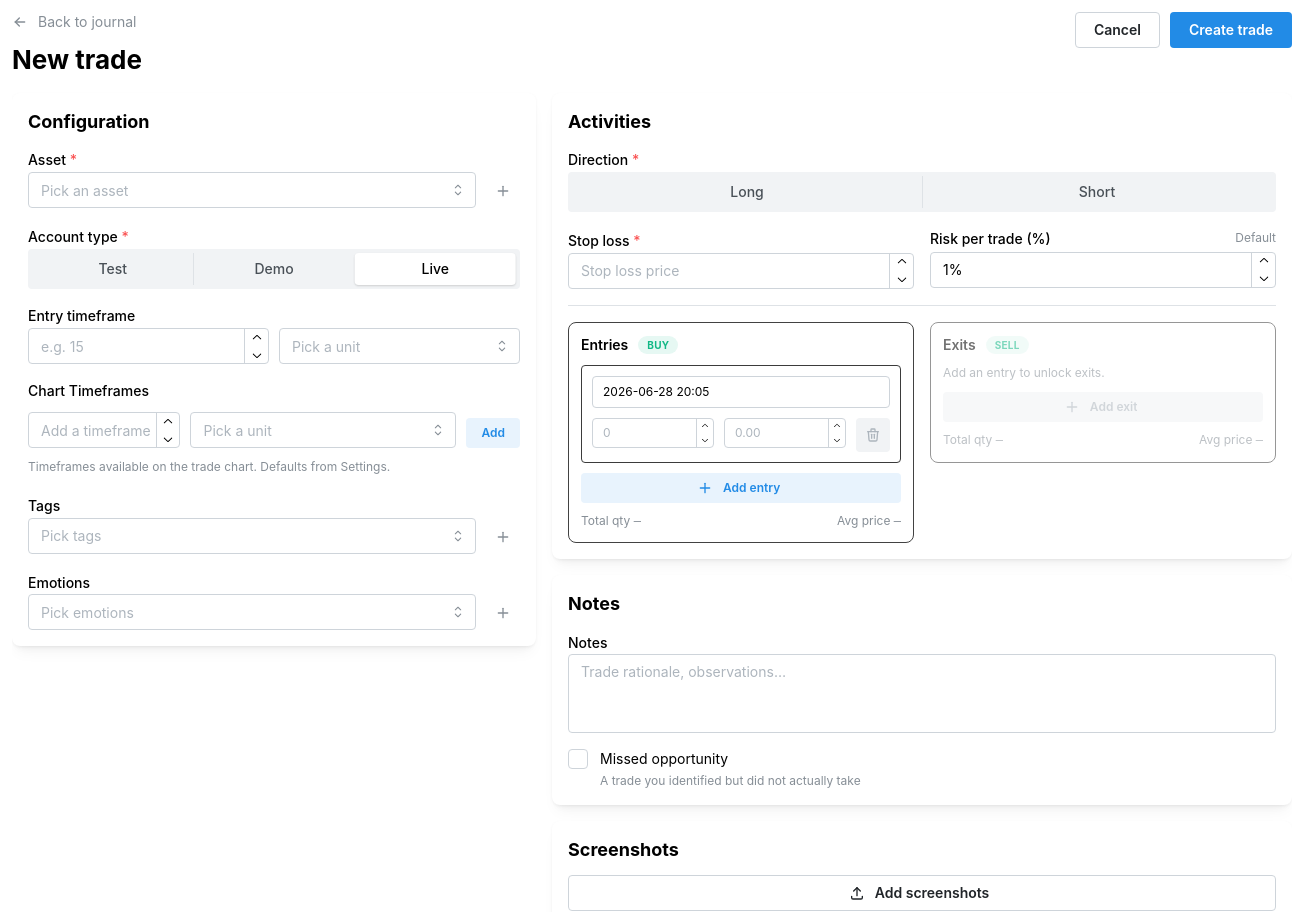
Scenario: TradeFormPage — create mode › unlocks the exits section once an entry quantity is set
This screenshot has width=1304, height=912.
Expected: the heading "New trade" is shown, [12,42,142,77]
Expected: the button "Add exit" is disabled, [943,392,1263,422]
In the field named "Quantity": (653, 433) [592,418,714,448], type "1000"
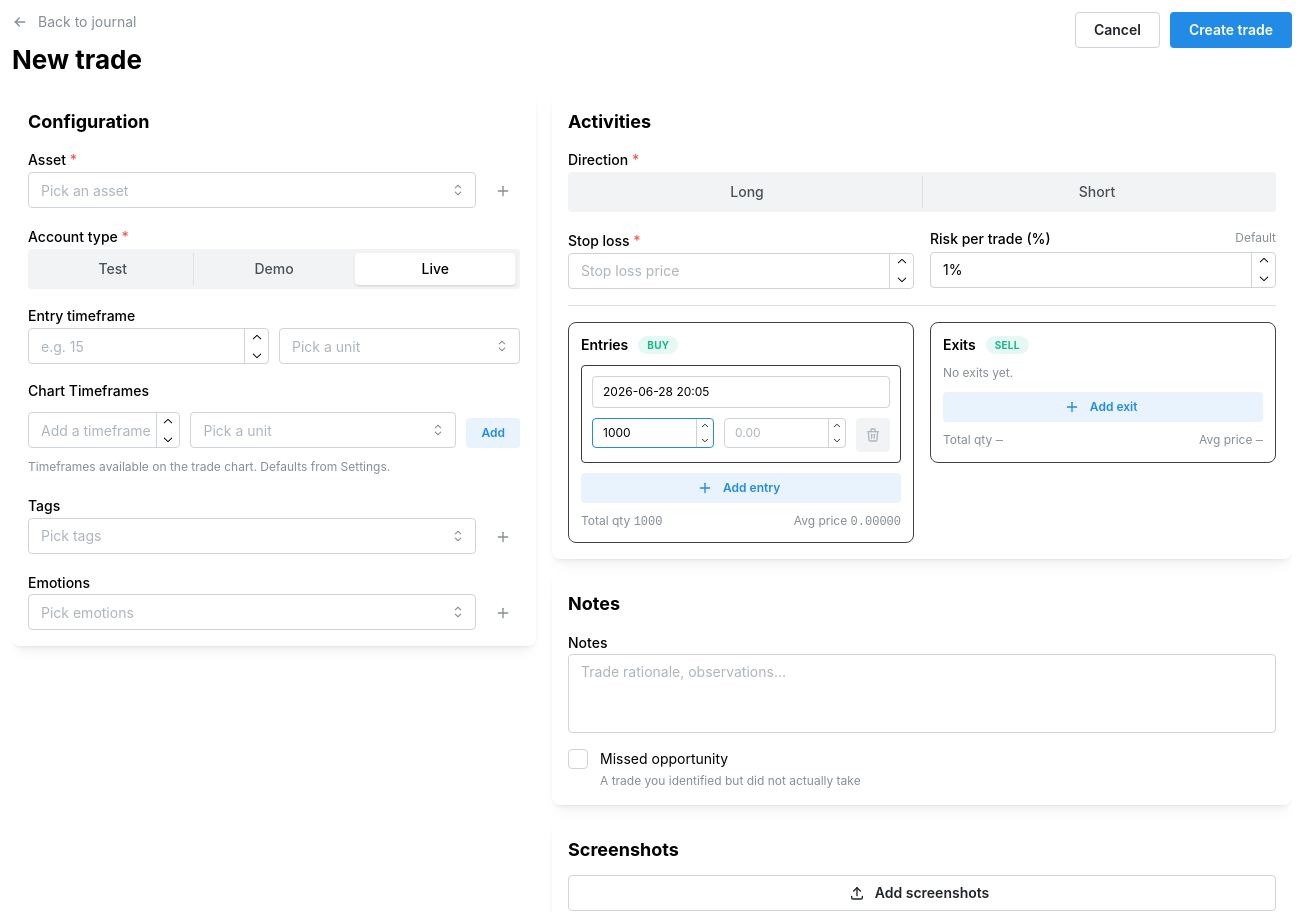
Expected: the button "Add exit" is enabled
Click the button "Add exit": (1103, 407) [943,392,1263,422]
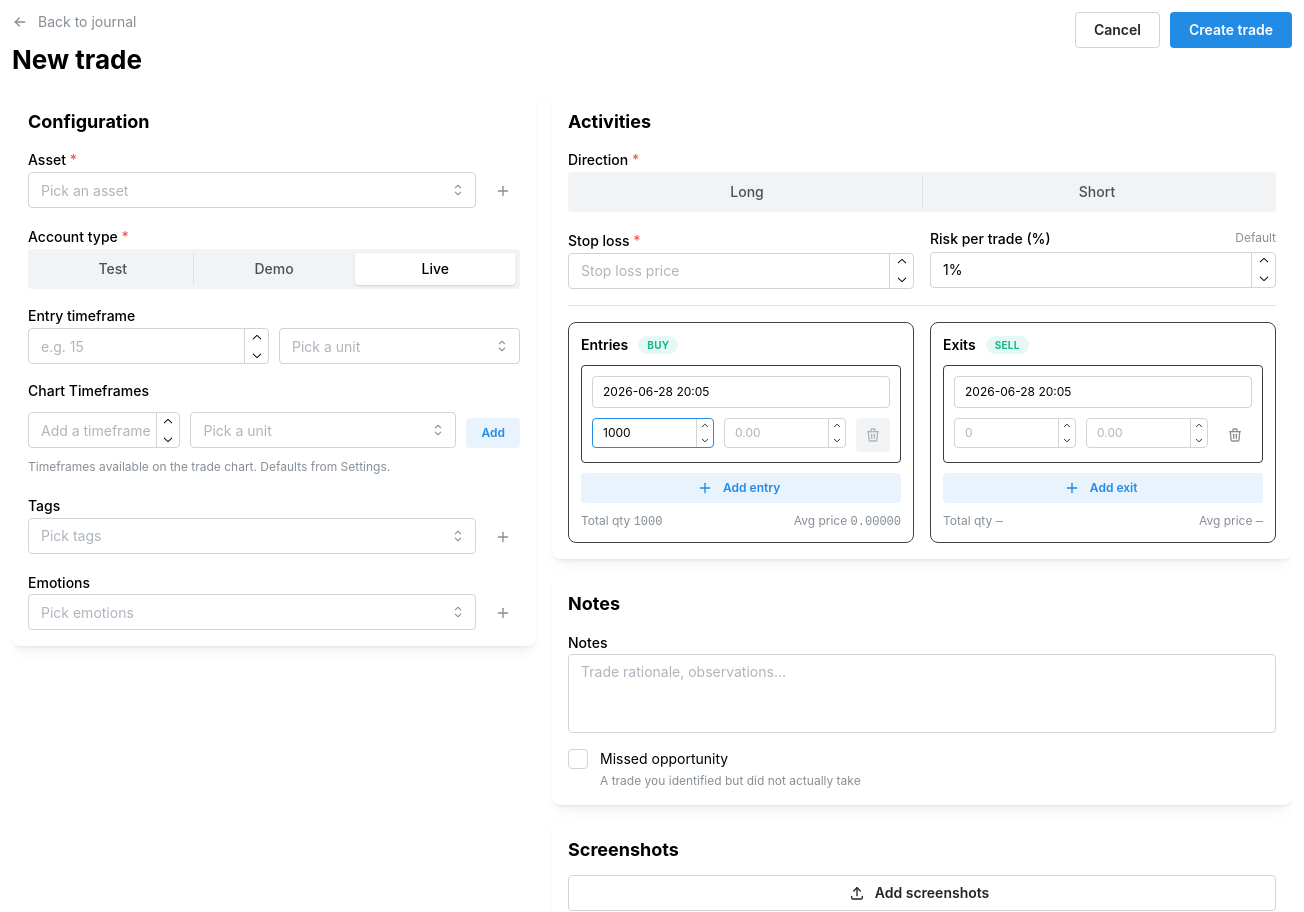
Expected: the button named "Exit date" is shown, [954,376,1252,408]
